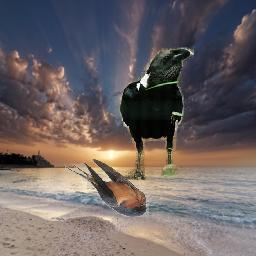Crow: (120, 48, 194, 181)
Swallow: (65, 159, 150, 217)
